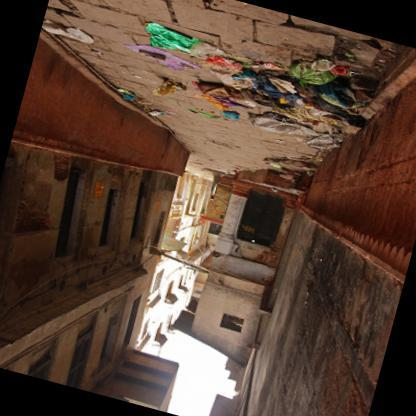Garbage: (240, 68, 341, 152), (201, 50, 304, 115), (274, 51, 359, 123), (189, 72, 268, 128)
